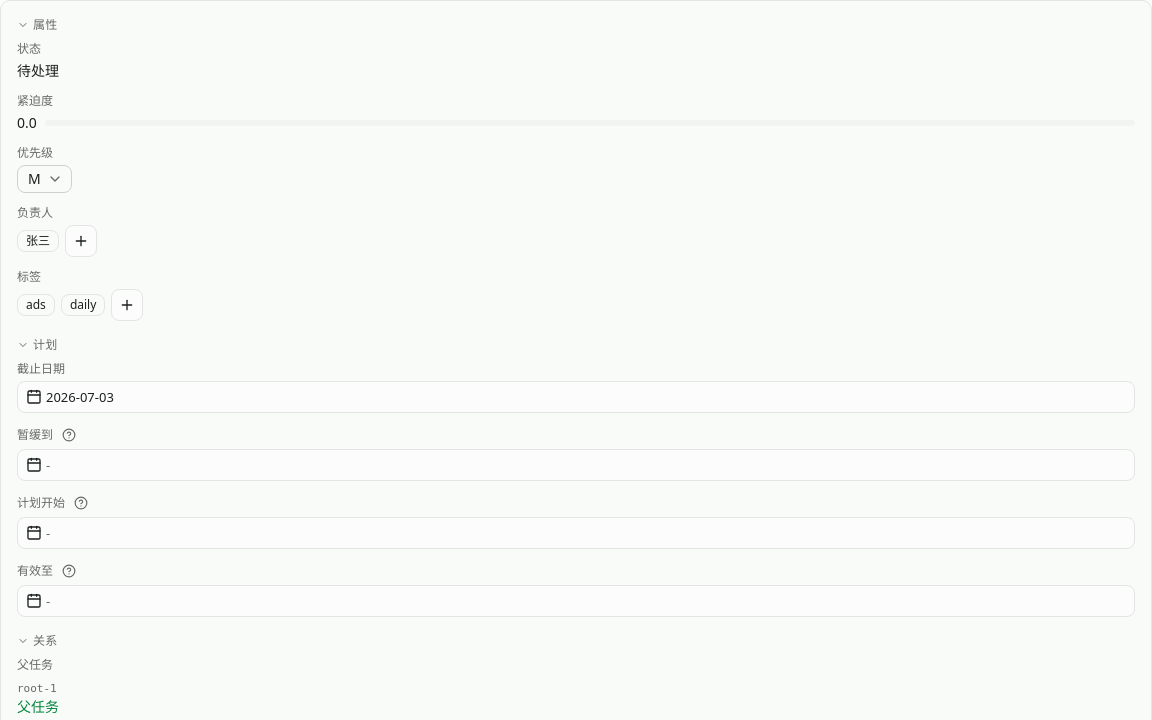
Test: TaskPropertyPanel › saves priority and due date edits
Click the dropdown named "优先级".
click(44, 179)  # box [17,165,72,193]
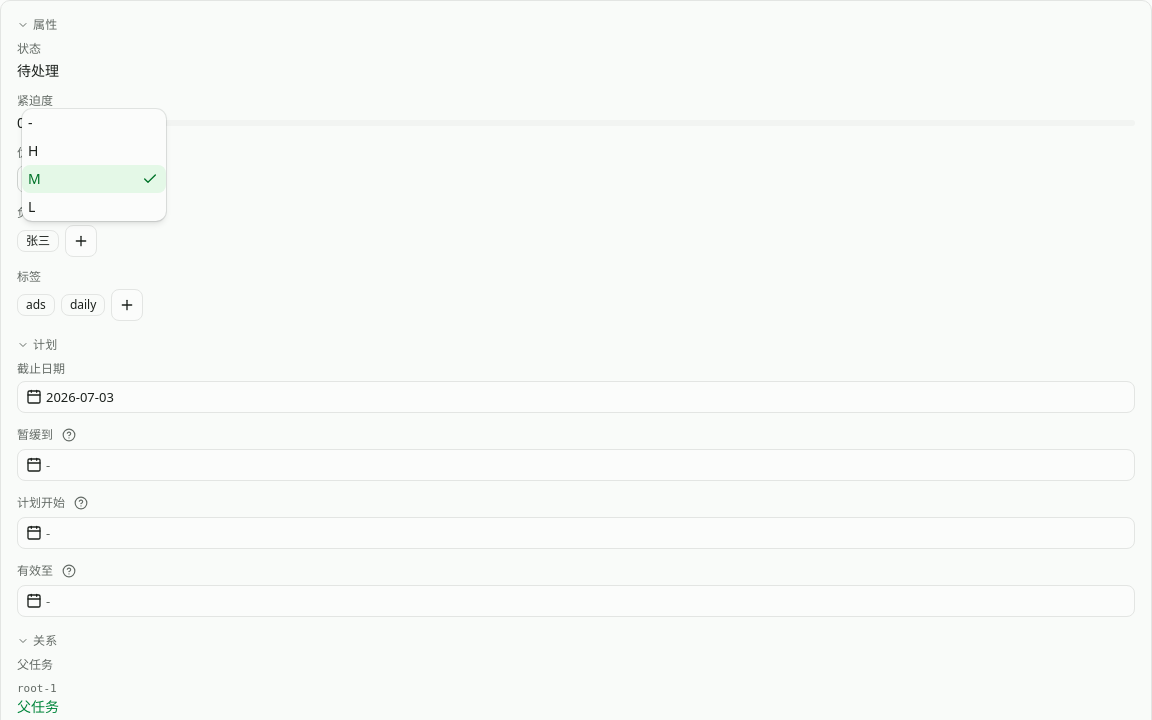
Click the option "H".
click(33, 150)  # box [28,141,38,160]
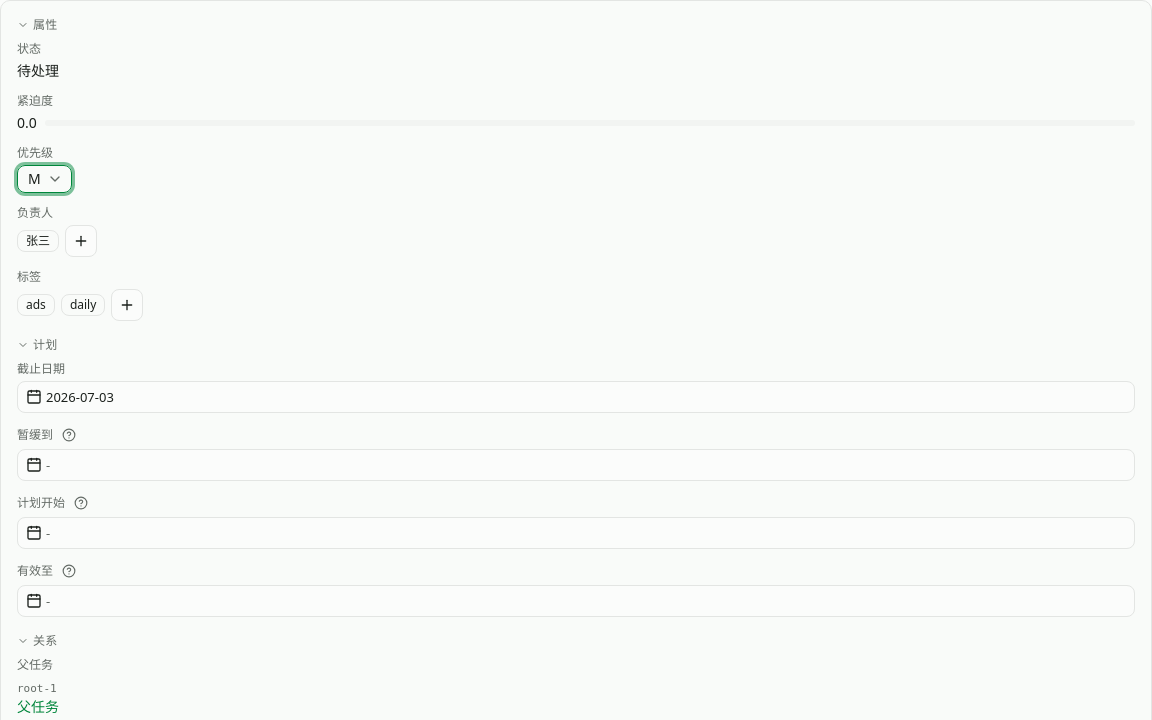
Click the button named "截止日期".
click(80, 397)  # box [17,381,1135,413]
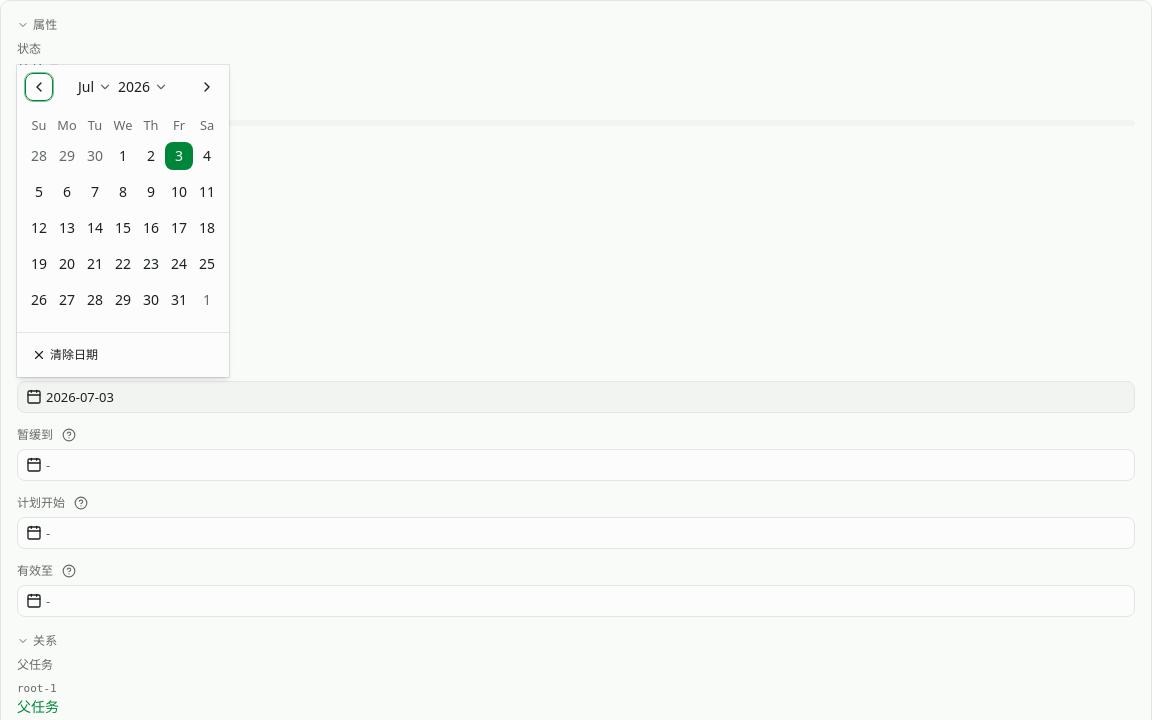
expect the table is shown: met, box [25,117,221,314]
expect the button that starts with "Jul" is shown: met, box [17,65,229,322]
